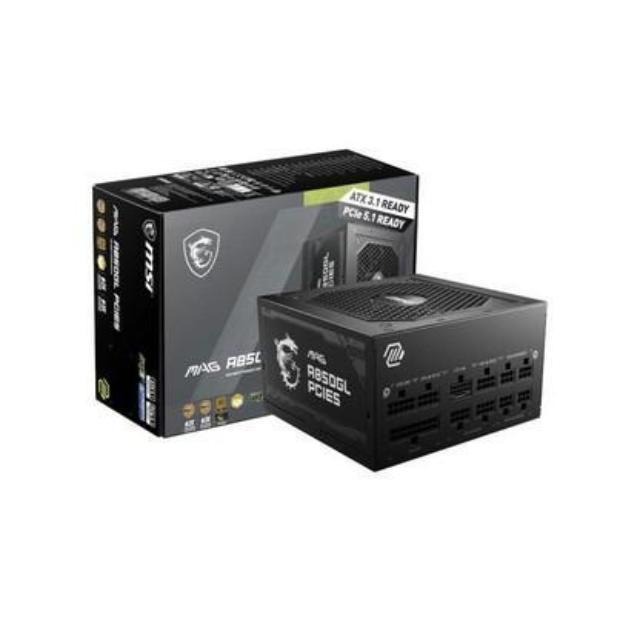PSU: (241, 262, 579, 490)
